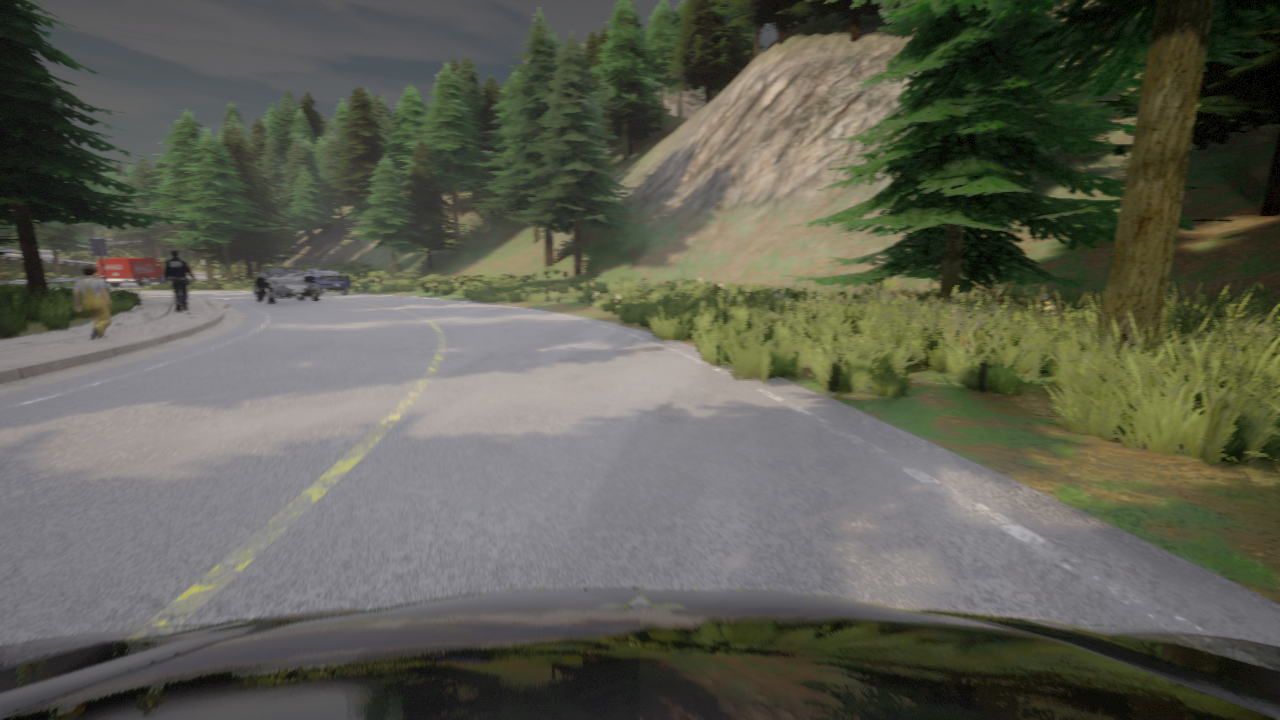cyclist: (0, 588, 1279, 719), (254, 267, 320, 302), (97, 258, 164, 286), (303, 268, 350, 293)
pedestrian: (75, 266, 111, 338), (164, 249, 195, 310)
